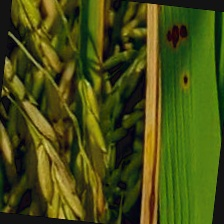Bacterial_Leaf_Blight: (163, 16, 194, 48), (177, 68, 195, 90)
